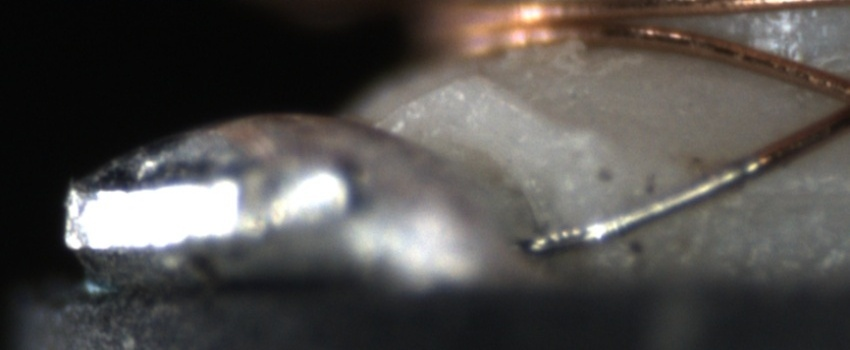DL: (740, 163, 849, 221)
TS: (528, 158, 759, 251)
